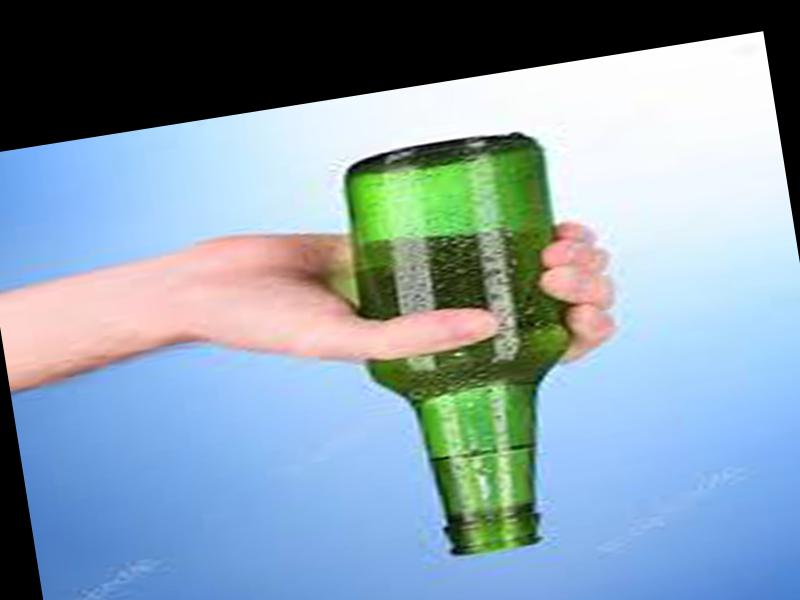Beer: (340, 126, 599, 566)
